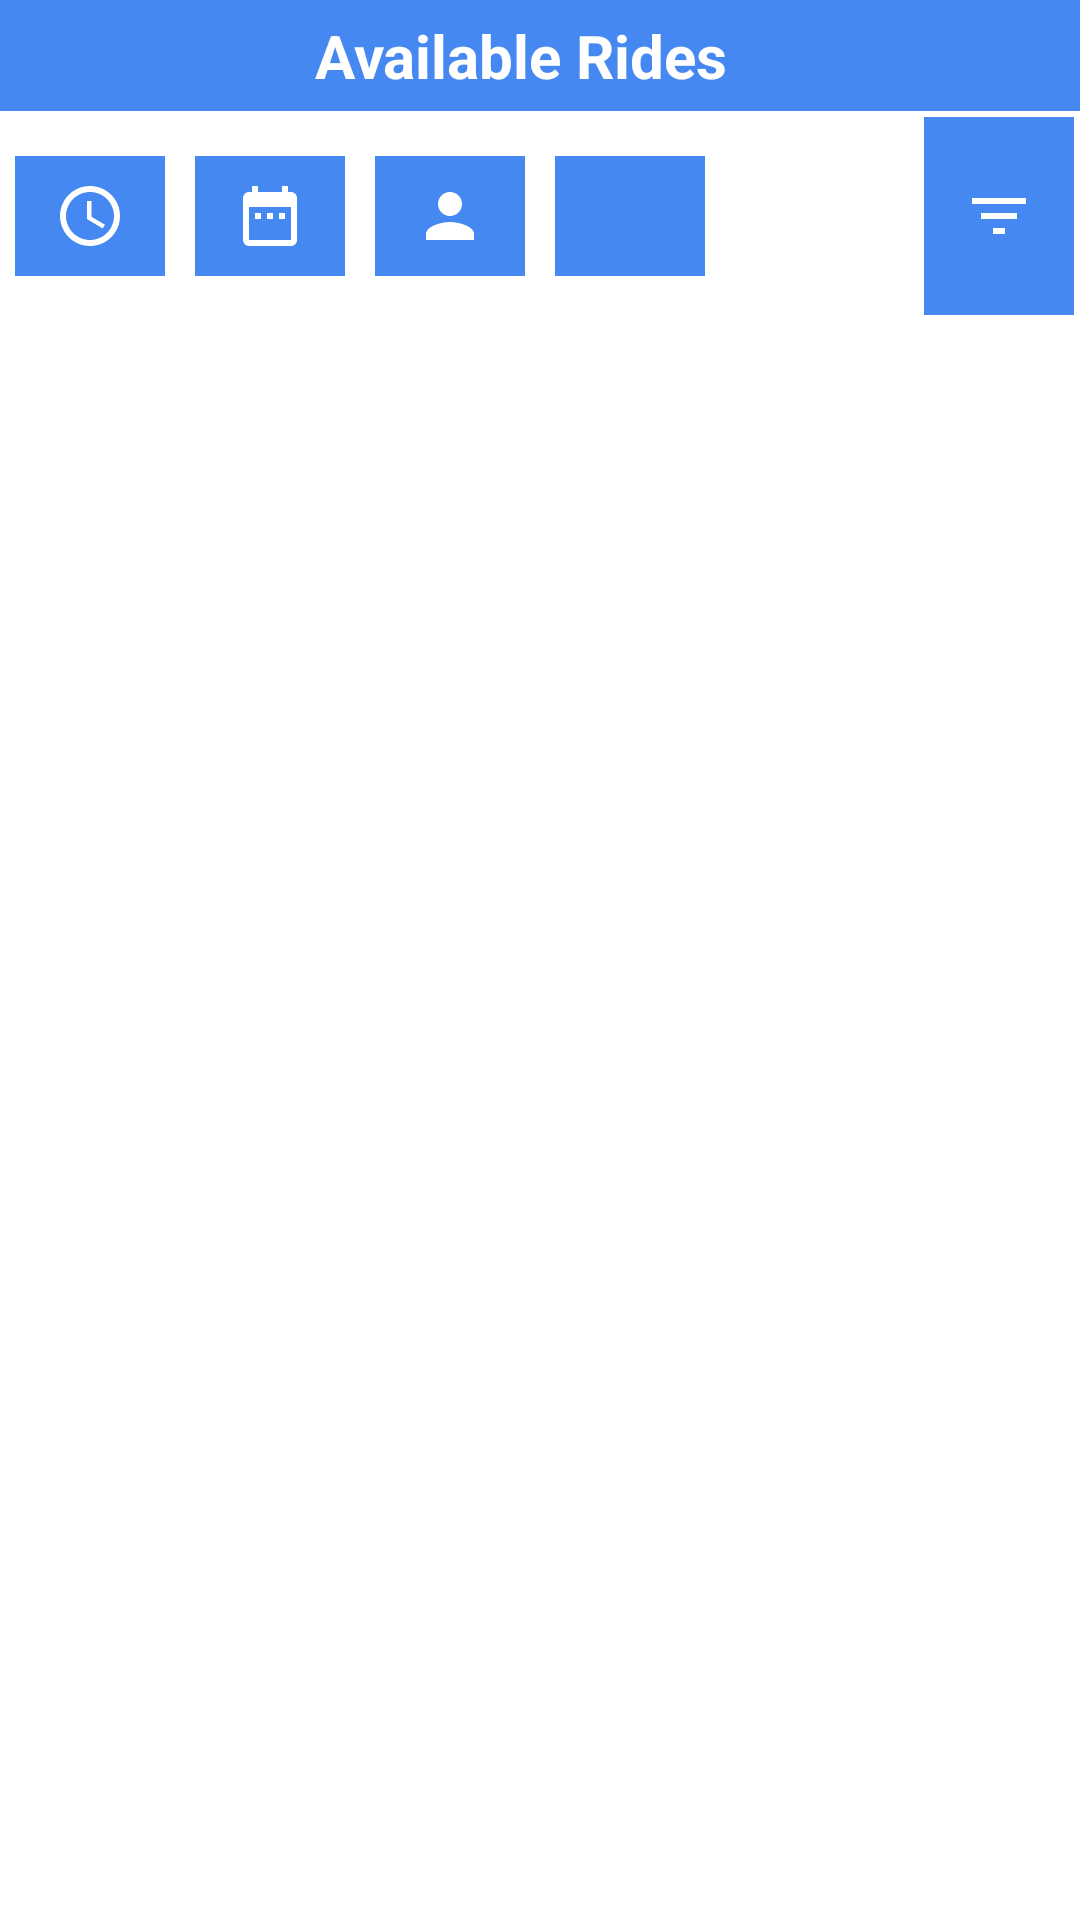

Icon click points for this 1080*1920 phone screenshot, format [x,y]:
DATE FILTER: [270,216]
FILTER BUTTON: [999,216]
SEATS FILTER: [450,216]
TIME FILTER: [90,216]
